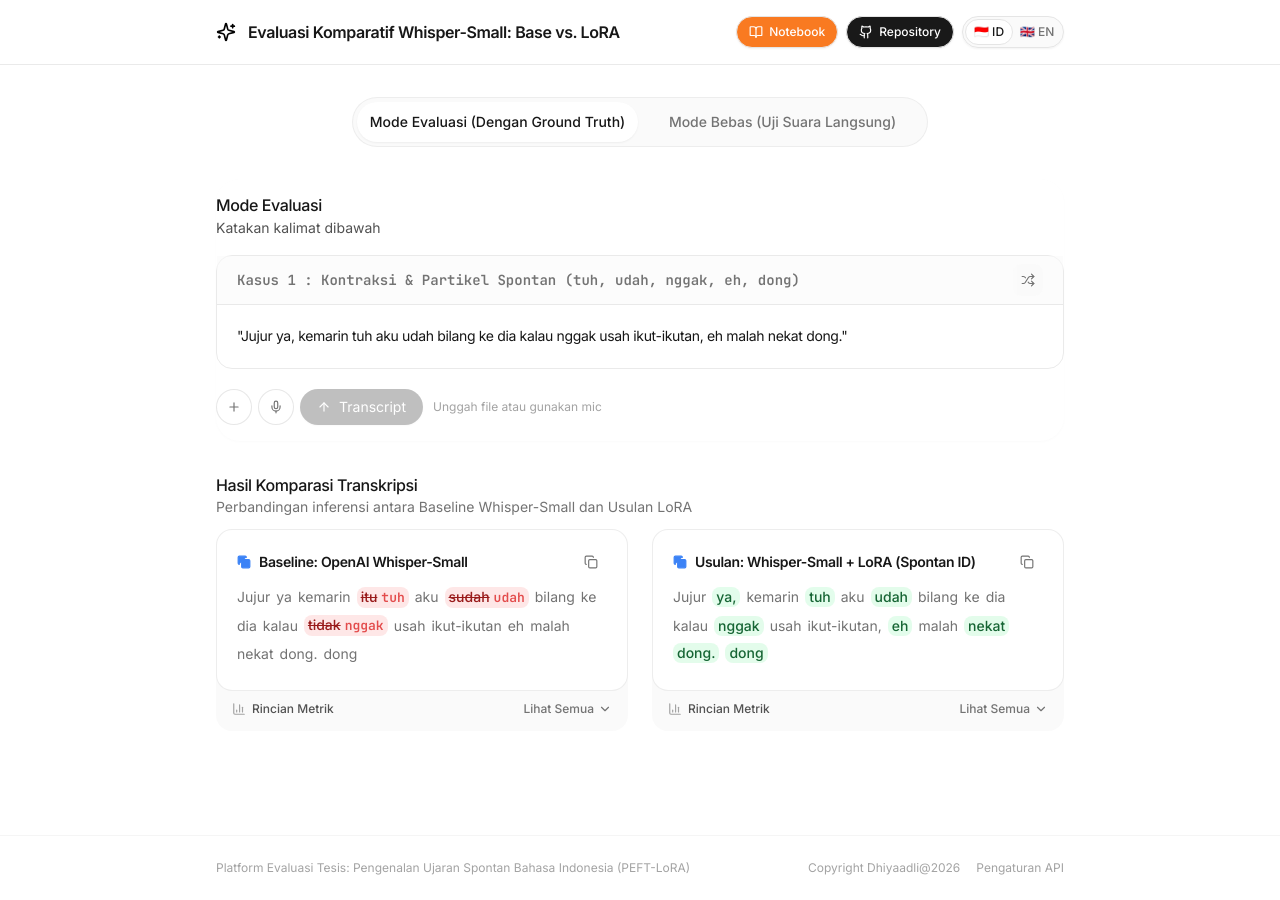
it: Full Application User Workflow Integration › opens and closes API settings modal
The image size is (1280, 900).
# Click settings button
Click the button titled "Pengaturan Koneksi Backend & Model" at (1020, 868), box [976,860,1064,876]
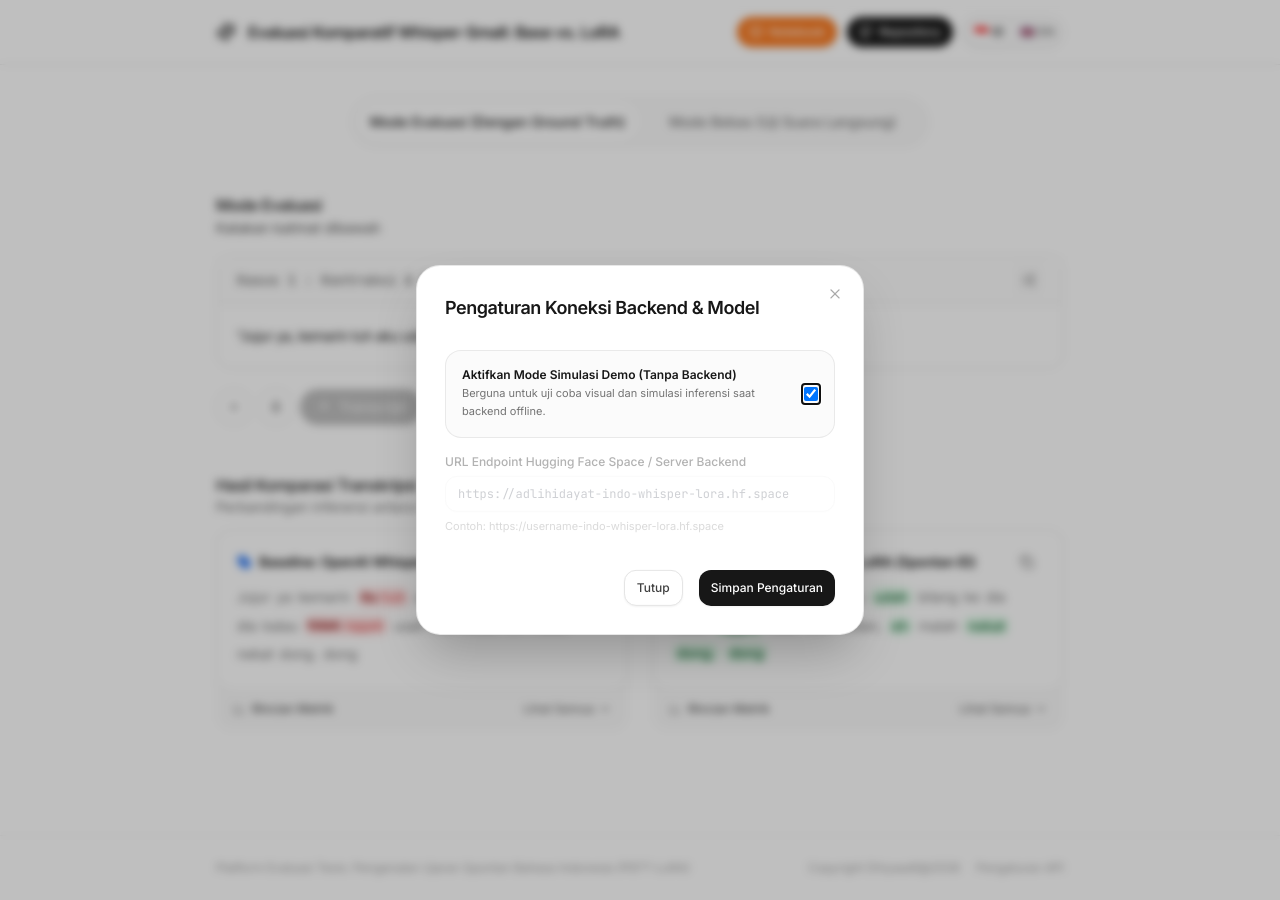
Check: the heading "Pengaturan Koneksi Backend & Model" is shown, box [445,297,759,318]
Check: the text "URL Endpoint Hugging Face Space / Server Backend" is shown, box [445,454,746,469]
# Close modal
Click the button "Tutup" at (653, 588), box [624,570,683,606]
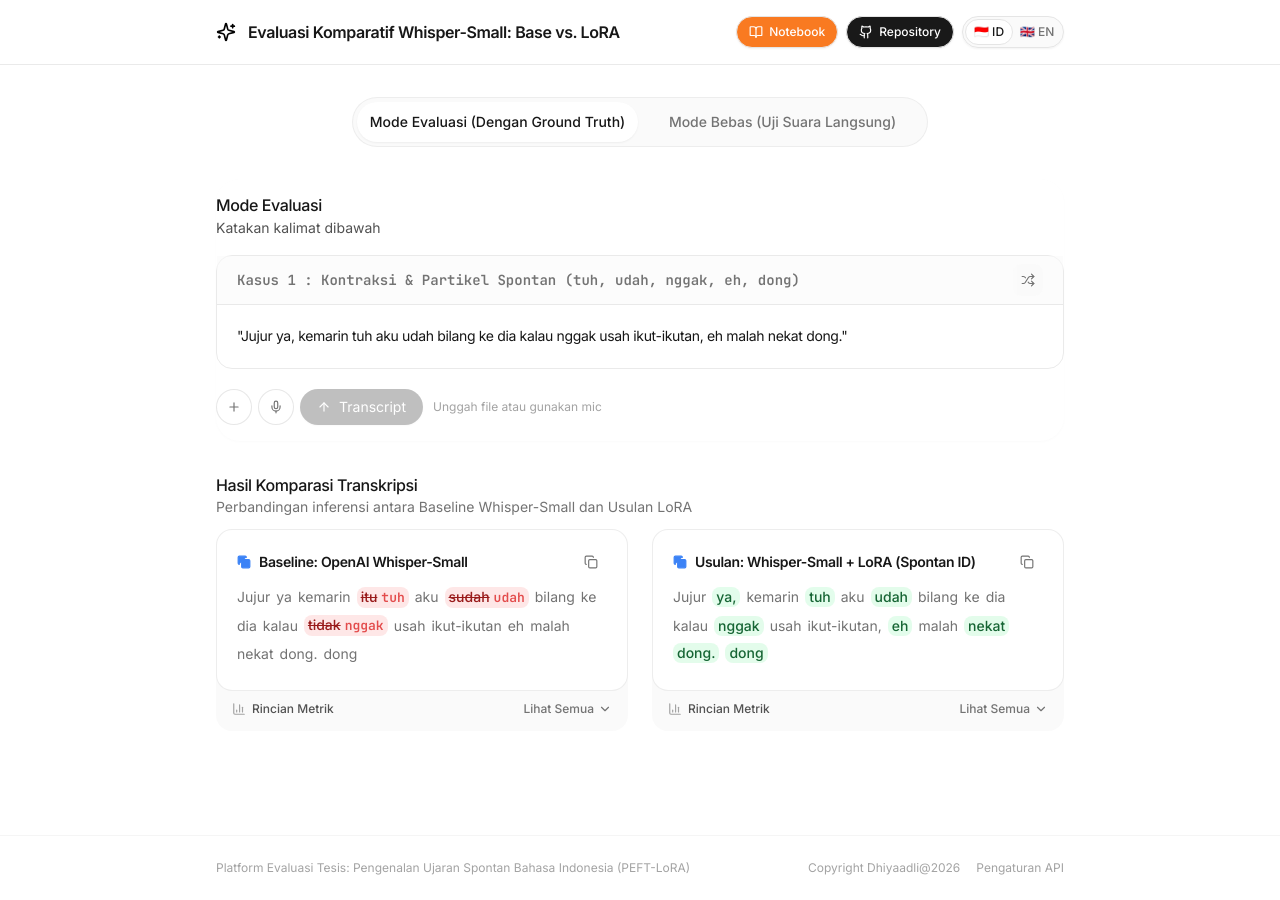
Check: the text "URL Endpoint Hugging Face Space" is gone
